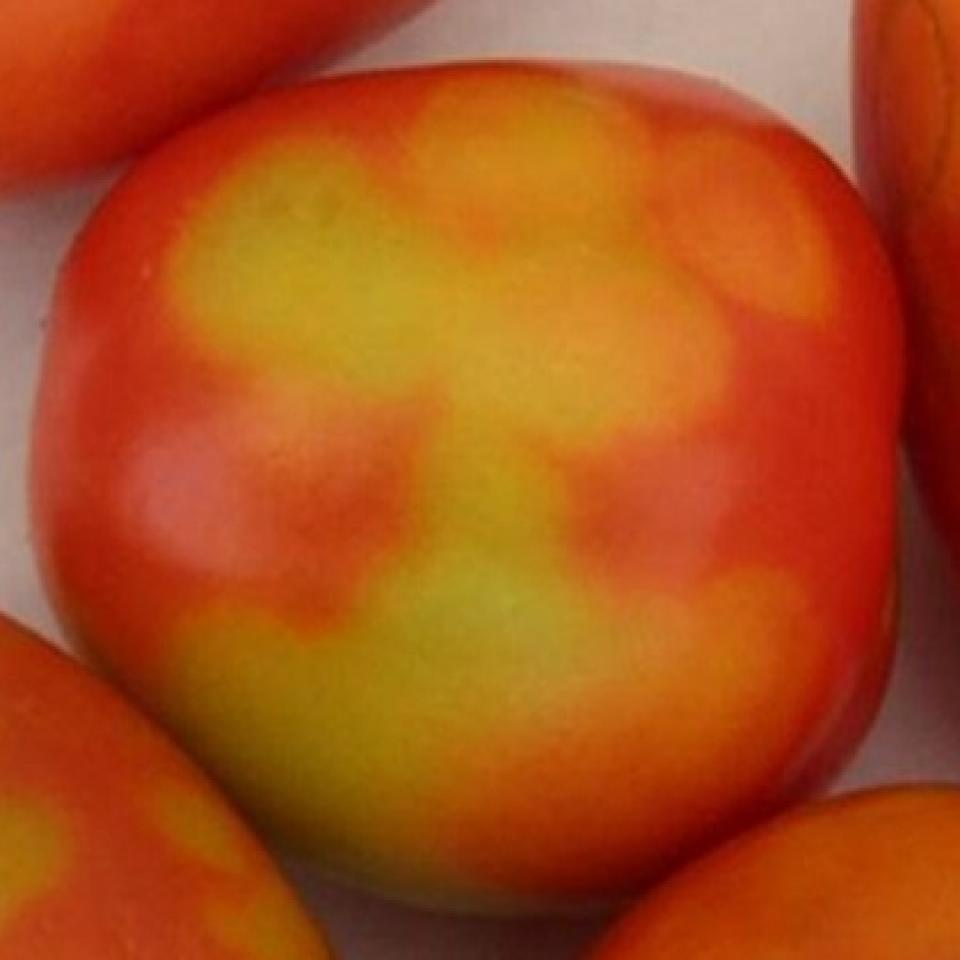Spotted wilt Virus: (27, 61, 907, 919)
